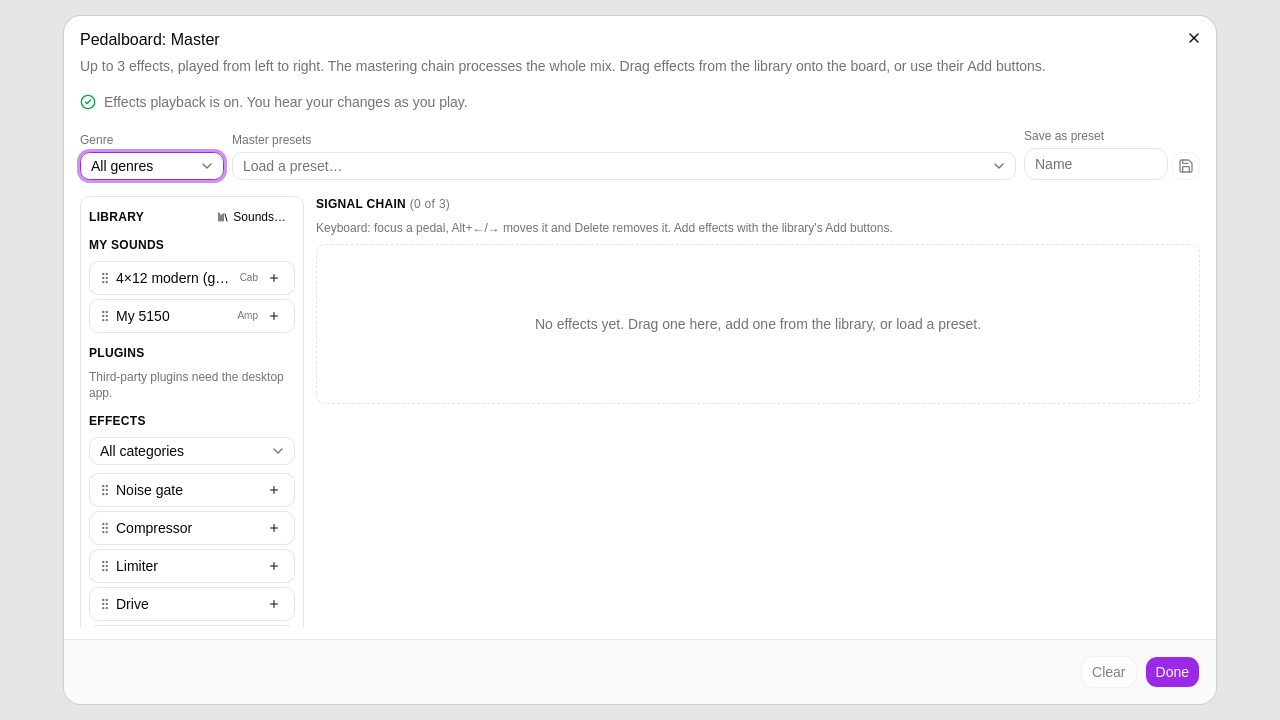
it: PedalboardDialog › limits the mastering chain to three effects
This screenshot has width=1280, height=720.
Click the button named "Add Compressor" at coordinates (274, 528), box [262, 516, 286, 540]
(page scrolled)
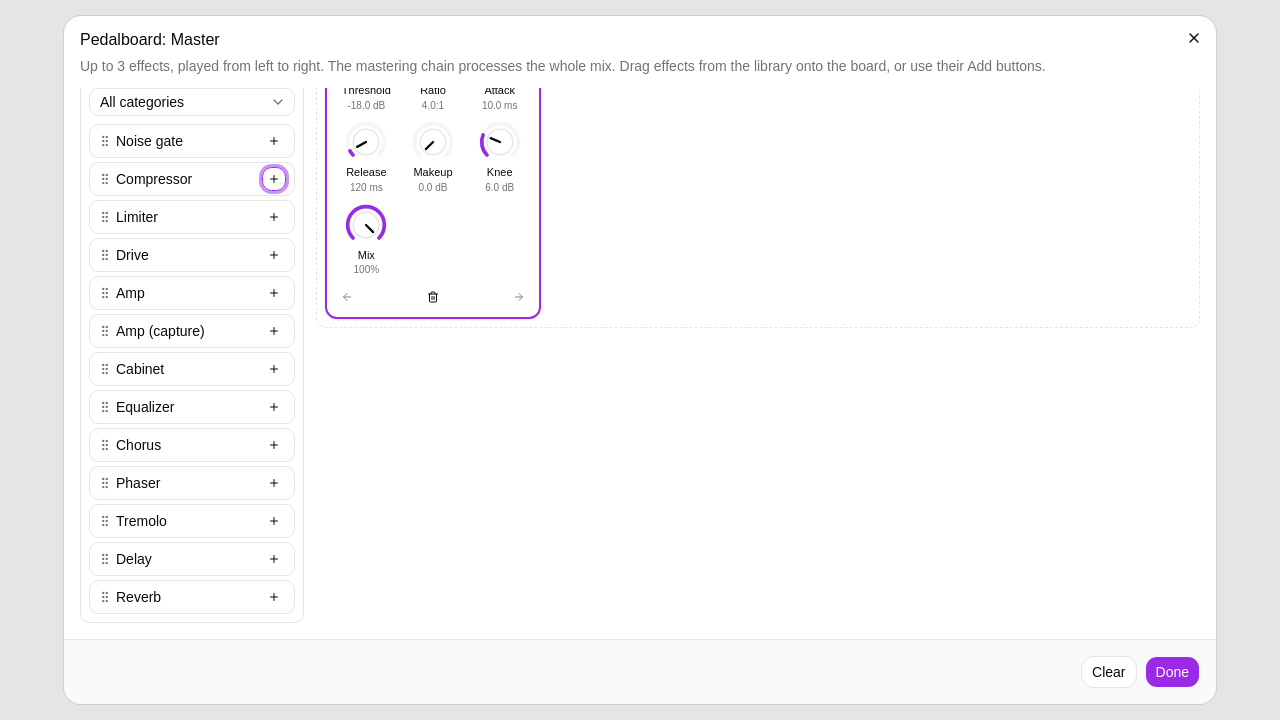
Click the button named "Add Equalizer" at coordinates (274, 407), box [262, 395, 286, 419]
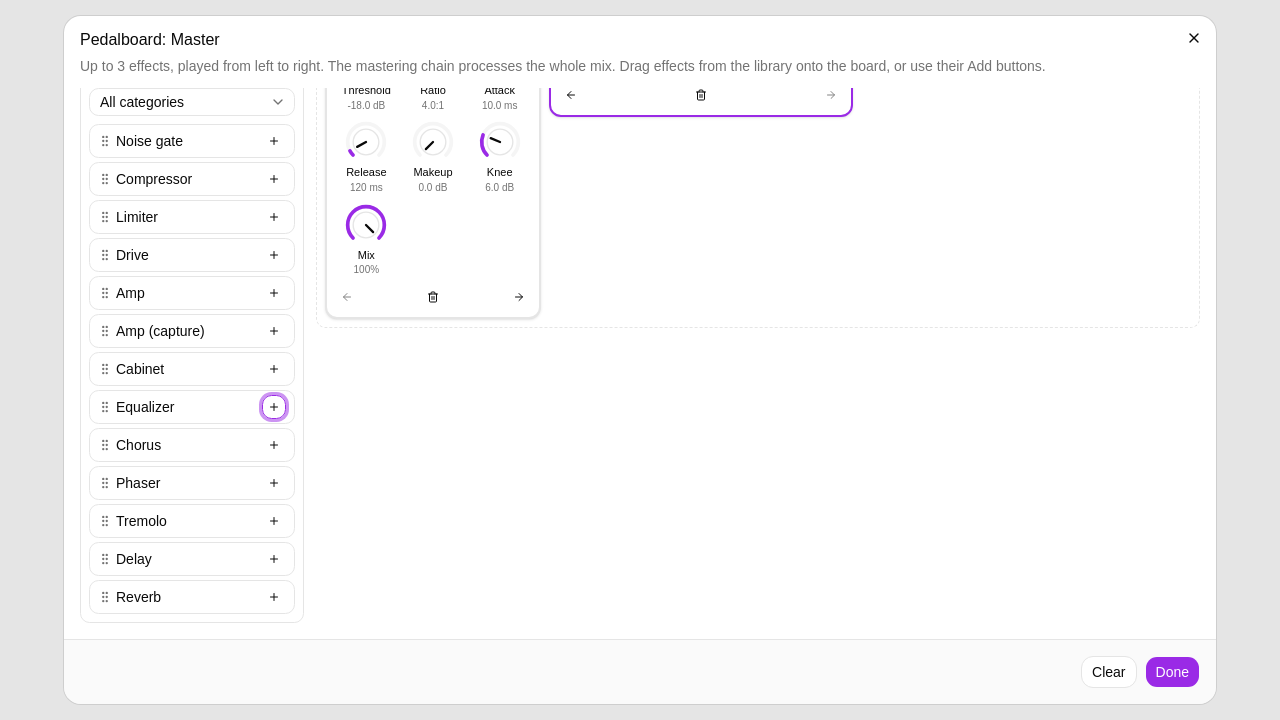
Click the button named "Add Reverb" at coordinates (274, 597), box [262, 585, 286, 609]
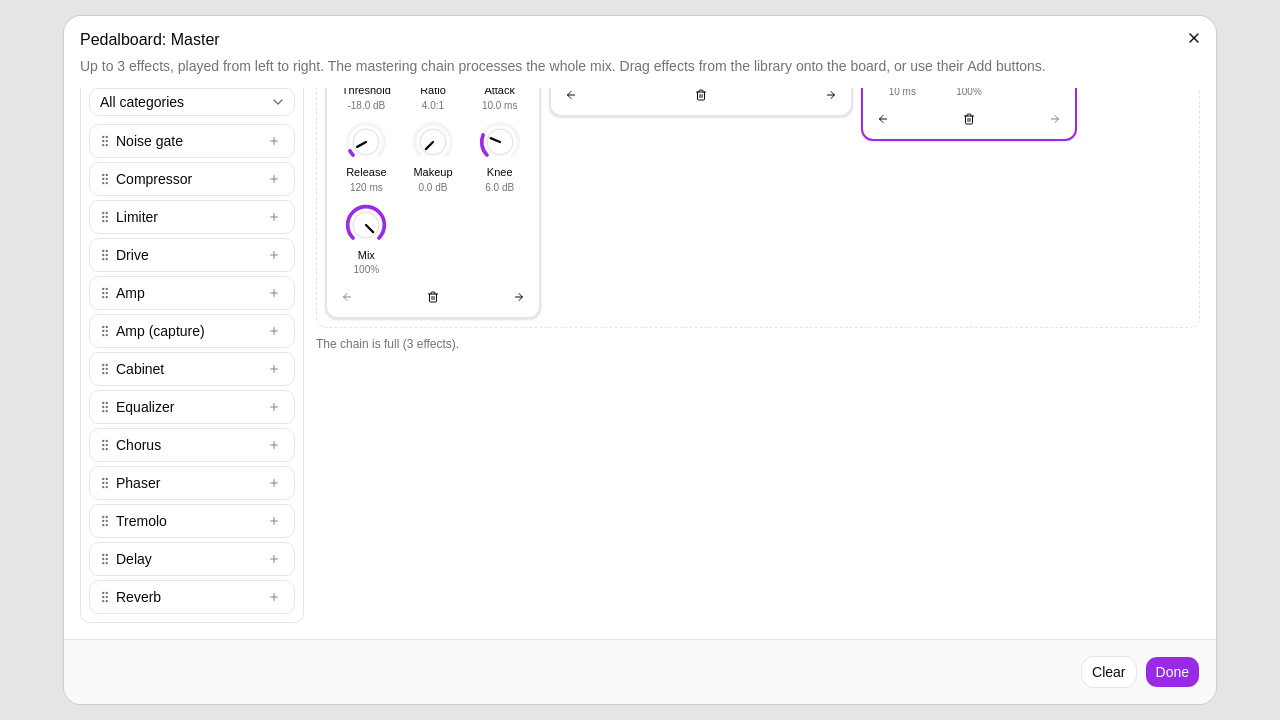
Expected: the button named "Add Delay" is disabled, [262, 547, 286, 571]
Expected: the text "The chain is full (3 effects)." is shown, [316, 337, 459, 351]
